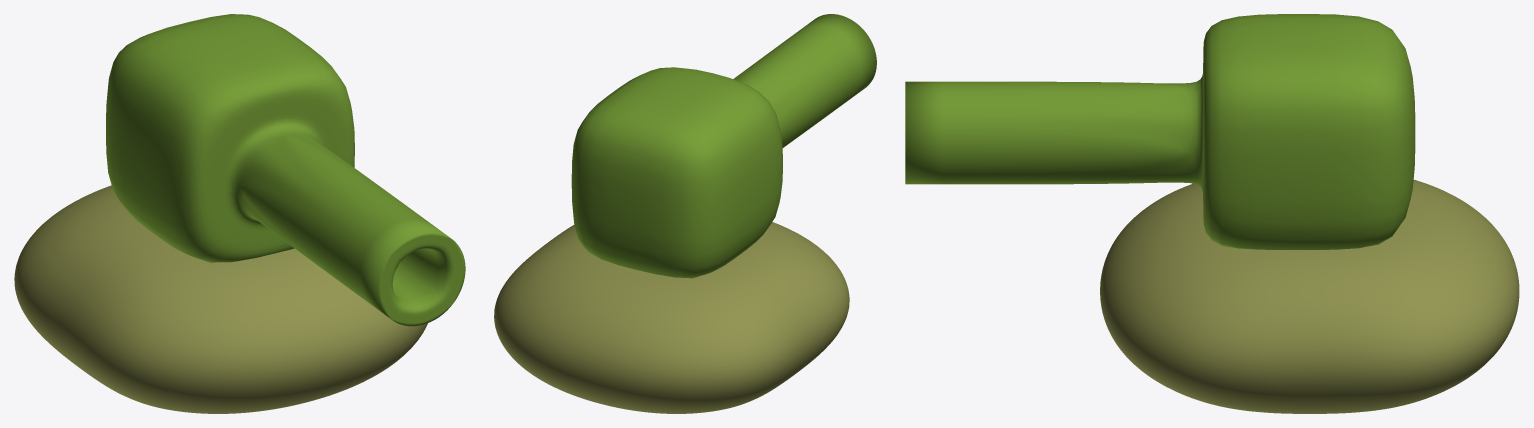
File: Torreta.fbx
3 renders of one model, left to right at view 1: azimuth 30°, elevation 25°; view 2: azimuth 150°, elevation 25°; view 3: azimuth 270°, elevation 25°, orthographic. The views are drawn at different scales.
Visible parts, largest first — view 1: Cube, Sphere; view 2: Sphere, Cube; view 3: Cube, Sphere.
Boxes of the visible parts, x1,y1,x2,y2 form: Cube: [106, 14, 465, 326]; Sphere: [14, 185, 427, 413]; Sphere: [494, 222, 849, 413]; Cube: [571, 14, 876, 278]; Cube: [905, 14, 1415, 249]; Sphere: [1100, 179, 1519, 413].
Bounding box in the file's own units: 363 × 345 × 576.
